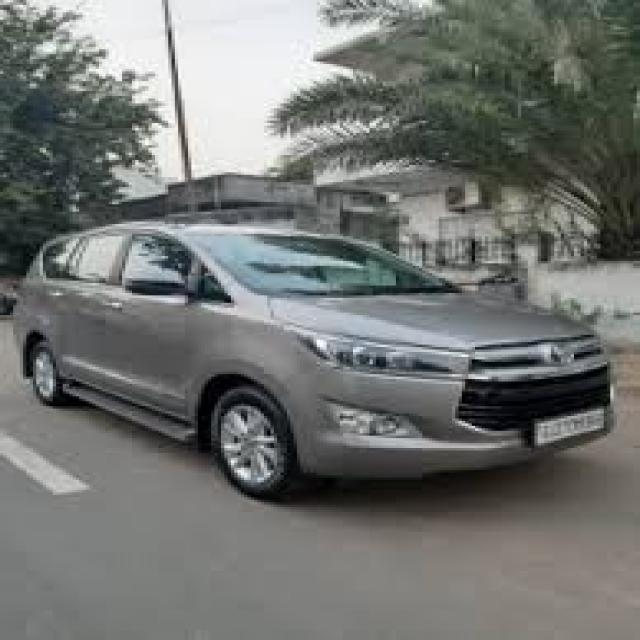light_vehicle: (11, 221, 619, 503)
